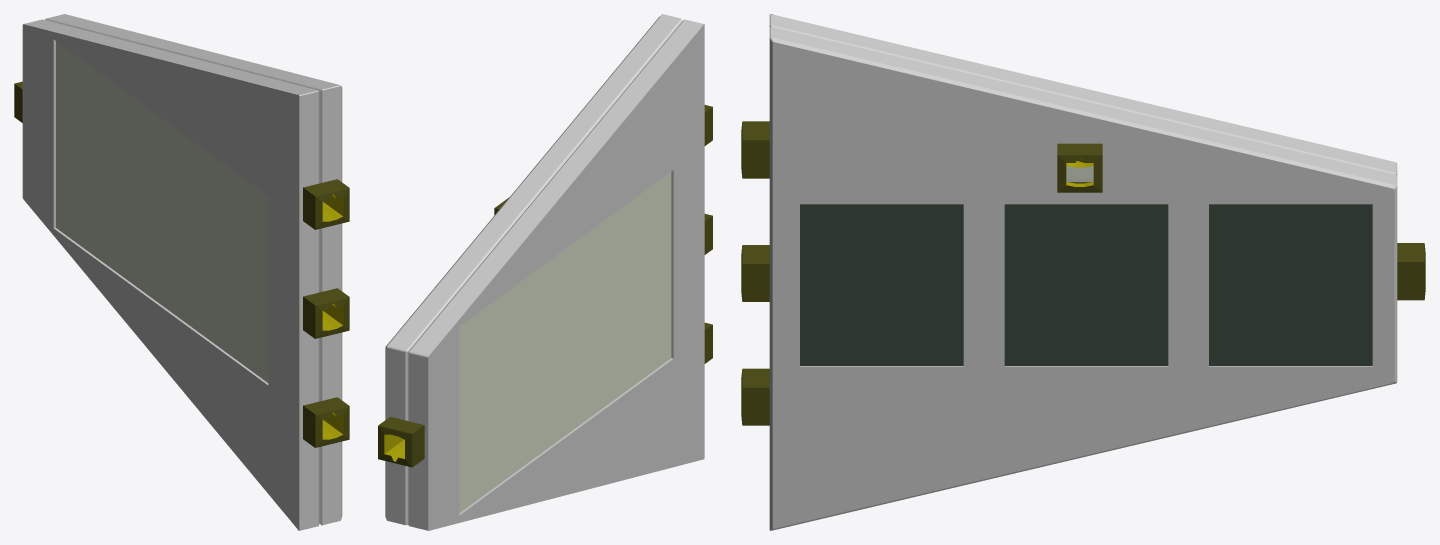
Rendered from SM_SwitchComponent_Select.fbx.
3 views of the same model, side by side, from view 1: azimuth 30°, elevation 25°; view 2: azimuth 150°, elevation 25°; view 3: azimuth 270°, elevation 25° (orthographic). The views are drawn at different scales.
Parts seen in each view (by area): view 1: SwitchComponent; view 2: SwitchComponent; view 3: SwitchComponent.
Boxes of the visible parts, box(x1,y1,x2,y2) form: SwitchComponent: box(14, 14, 349, 530); SwitchComponent: box(378, 14, 712, 530); SwitchComponent: box(741, 14, 1425, 530).
Size of the model in its own units: 3.11 by 19.99 by 25.1.
